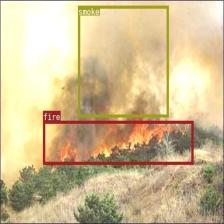fire: (43, 121, 193, 164)
smoke: (78, 5, 168, 117)
